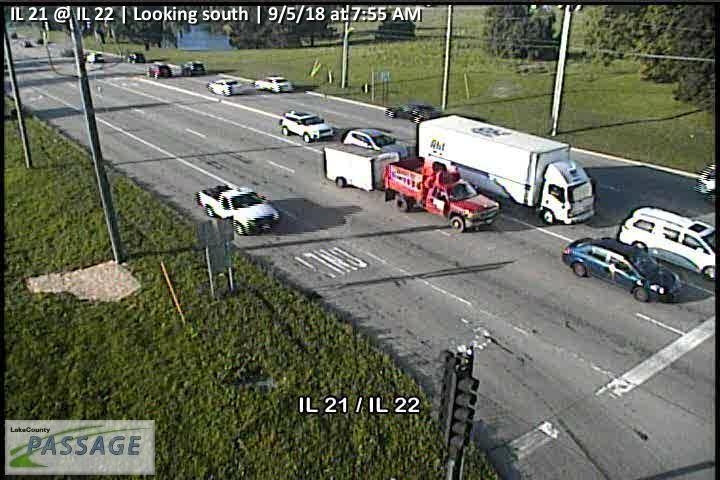SUV: (618, 207, 718, 279)
Sedan: (558, 234, 683, 302), (340, 128, 409, 161), (278, 111, 333, 143), (382, 104, 437, 124), (203, 78, 243, 97), (253, 75, 293, 93), (142, 62, 173, 79), (181, 58, 207, 77), (82, 50, 107, 64), (123, 50, 146, 65)
Truck: (413, 111, 599, 227), (324, 140, 502, 233), (196, 182, 282, 235)
